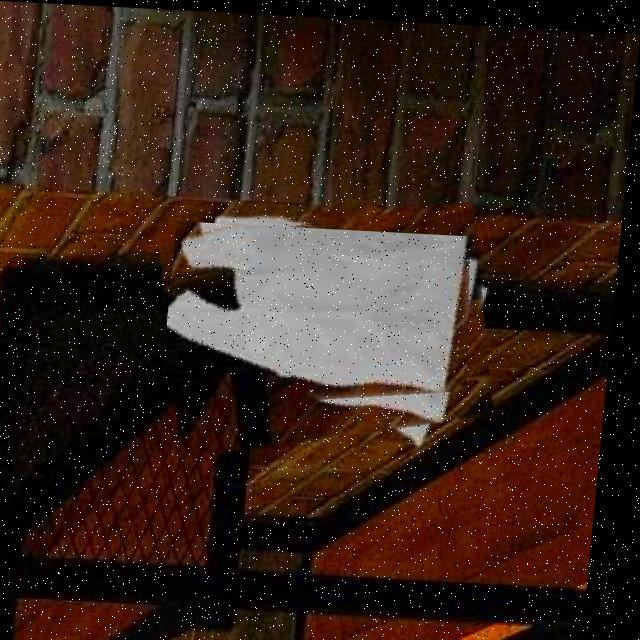litter: (173, 221, 477, 392)
